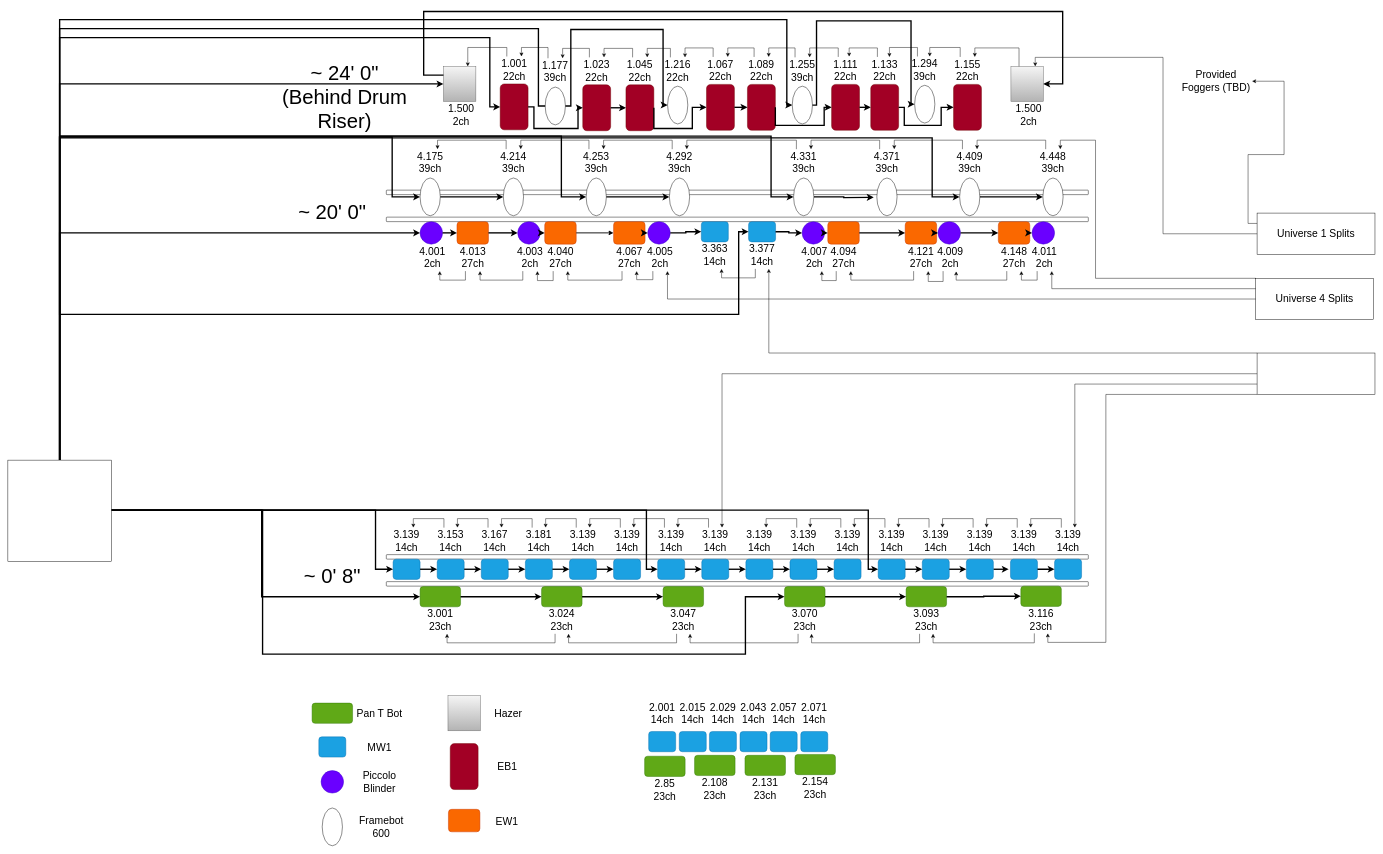
Some shapes in this 1383 by 854 pixel diagram are drawn without their labels. Here are the shapes that lost their labels. From the top down, the centre of each, then its label:
point 1316,373: Universe 3 Splits
point 59,510: Power Distro
